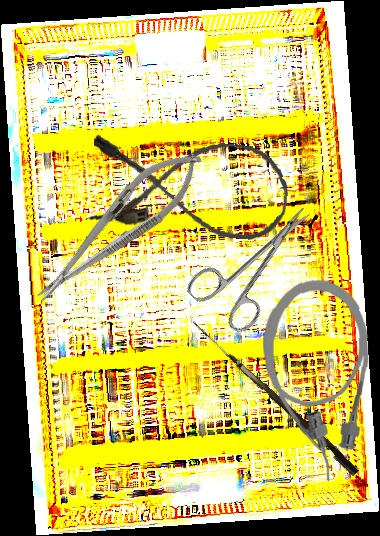Cannula: (85, 129, 293, 244), (258, 277, 372, 483)
Hook Surgical: (185, 320, 362, 477)
Iris Scissors: (182, 186, 337, 341)
Needle Holder: (21, 135, 215, 317)
